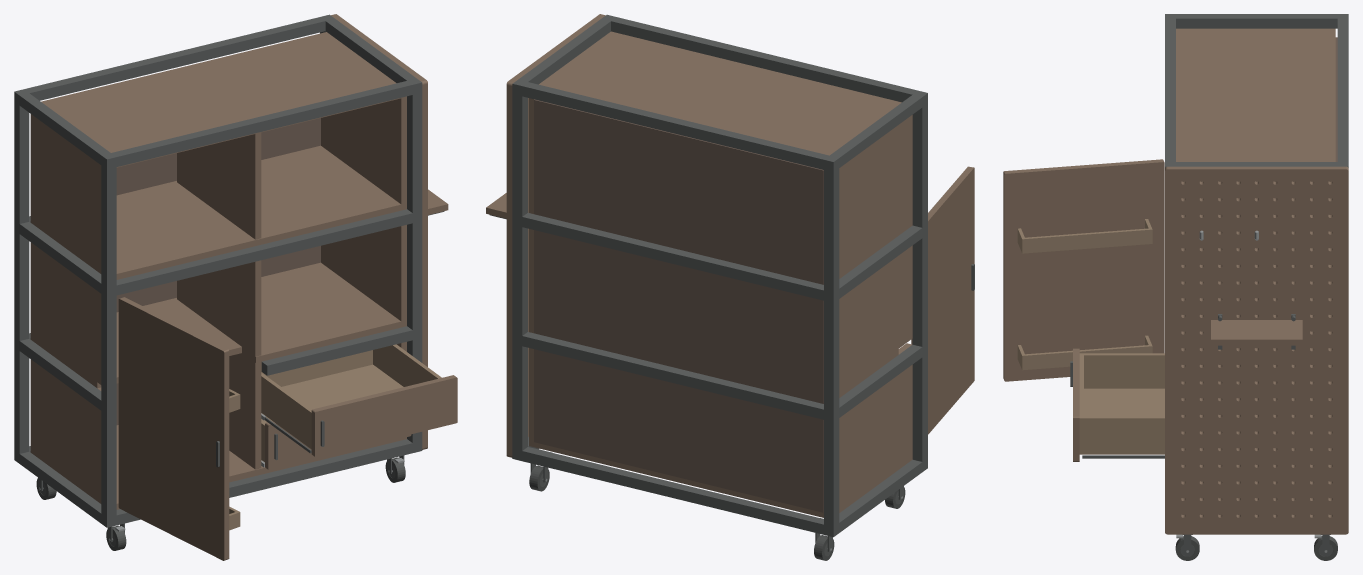
File: outside-open.glb
3 renders of one model, left to right at view 1: azimuth 30°, elevation 25°; view 2: azimuth 150°, elevation 25°; view 3: azimuth 270°, elevation 25°, orthographic. The views are drawn at different scales.
Visible parts, largest first — view 1: left-tall-door, shelf-3, shelf-2, shelf-1, side-left-2, drawer-1-face, side-left-1, side-left-0, partition-2, side-right-2, profile-post-0-0, back-panel (+22 smaller); view 2: back-panel, shelf-3, left-tall-door, side-left-2, side-left-1, side-left-0, profile-post-0-470, profile-post-952-470, profile-post-0-0, profile-cross-3-470, profile-cross-2-470, profile-cross-0-470 (+9 smaller); view 3: pegboard-full-right, left-tall-door, shelf-3, drawer-1-right, drawer-1-left, drawer-1-bottom, profile-depth-3-0, accessory-shelf, left-door-tray-1-lip, profile-cross-3-470, profile-cross-3-0, left-door-tray-0-lip (+3 smaller).
Part boxes in pixels (x1,y1,x2,y2): left-tall-door: [118, 297, 229, 560]; shelf-3: [41, 32, 406, 167]; shelf-2: [30, 145, 406, 279]; shelf-1: [30, 262, 406, 388]; side-left-2: [30, 114, 101, 267]; drawer-1-face: [311, 375, 457, 457]; side-left-1: [30, 242, 101, 384]; side-left-0: [30, 359, 101, 497]; partition-2: [177, 132, 261, 239]; side-right-2: [321, 97, 406, 204]; profile-post-0-0: [101, 153, 116, 527]; back-panel: [116, 118, 320, 425]; back-panel: [534, 99, 823, 512]; shelf-3: [539, 31, 901, 155]; left-tall-door: [911, 166, 974, 434]; side-left-2: [839, 115, 912, 272]; side-left-1: [839, 245, 912, 391]; side-left-0: [839, 343, 912, 506]; profile-post-0-470: [824, 155, 839, 537]; profile-post-952-470: [512, 79, 527, 460]; profile-post-0-0: [912, 90, 927, 471]; profile-cross-3-470: [522, 82, 828, 169]; profile-cross-2-470: [522, 213, 823, 300]; profile-cross-0-470: [522, 447, 823, 534]; pegboard-full-right: [1165, 166, 1348, 534]; left-tall-door: [1003, 159, 1164, 381]; shelf-3: [1176, 28, 1335, 161]; drawer-1-right: [1079, 416, 1164, 451]; drawer-1-left: [1079, 353, 1164, 388]; drawer-1-bottom: [1079, 388, 1164, 454]; profile-depth-3-0: [1176, 14, 1337, 28]; accessory-shelf: [1211, 320, 1302, 345]; left-door-tray-1-lip: [1021, 228, 1152, 250]; profile-cross-3-470: [1337, 18, 1348, 161]; profile-cross-3-0: [1165, 18, 1175, 161]; left-door-tray-0-lip: [1021, 345, 1152, 367].
Bounding box in the file's own units: 1.13 × 1.2 × 0.9399.
